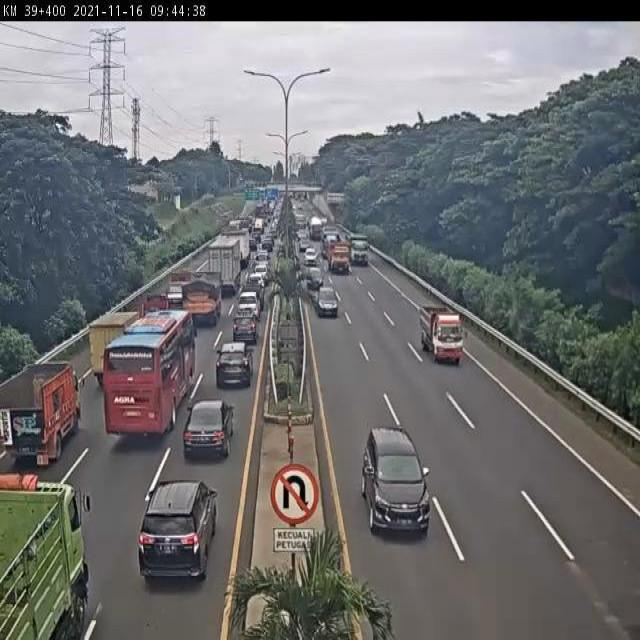big bus: (102, 313, 191, 436)
car: (358, 428, 429, 536), (139, 483, 216, 581), (182, 399, 235, 456), (217, 340, 256, 388), (314, 282, 340, 318), (232, 316, 255, 347), (240, 285, 262, 316), (244, 270, 263, 290)
small truck: (85, 315, 137, 384), (162, 273, 192, 312), (137, 292, 167, 329)
truck-l-: (206, 241, 241, 296)
truck-m-: (0, 368, 77, 467), (418, 305, 466, 364), (179, 276, 220, 329)
